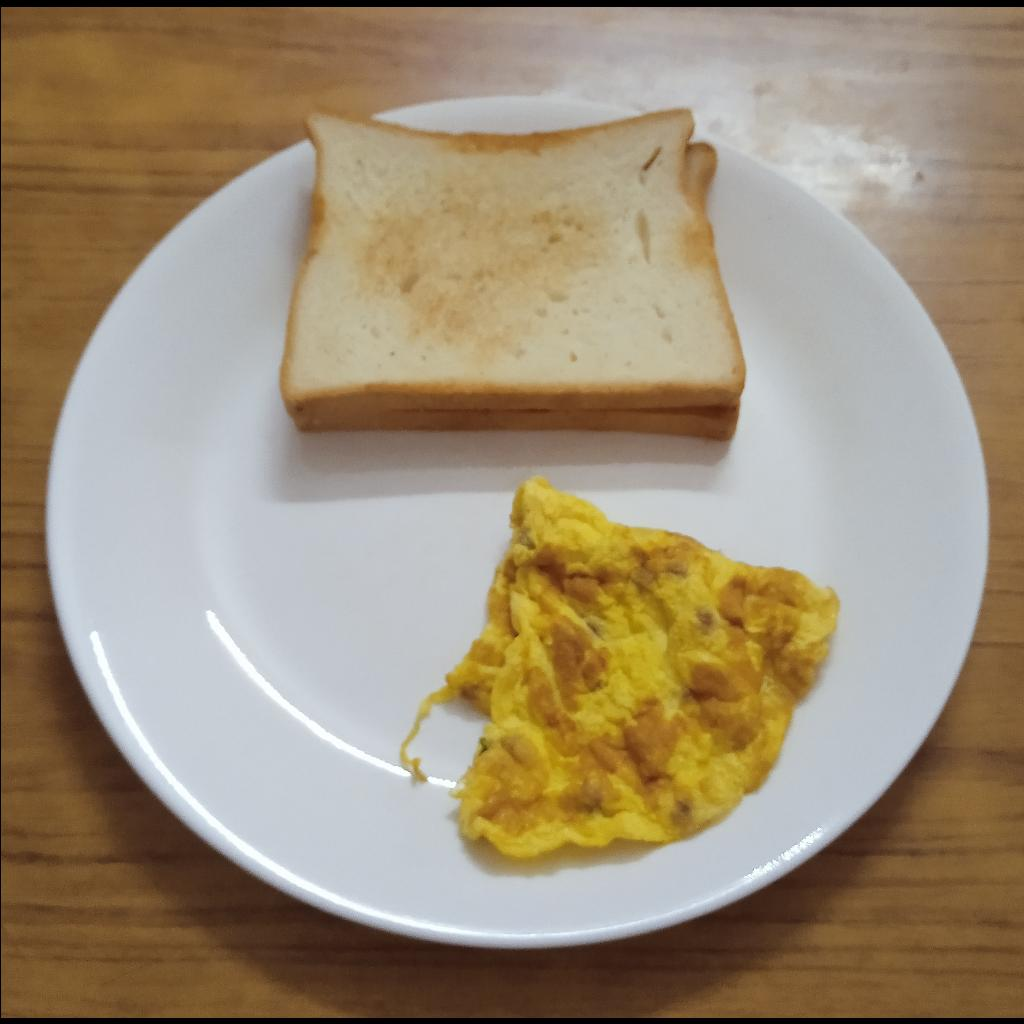bread: (276, 106, 747, 445)
egg-poached: (403, 477, 848, 865)
